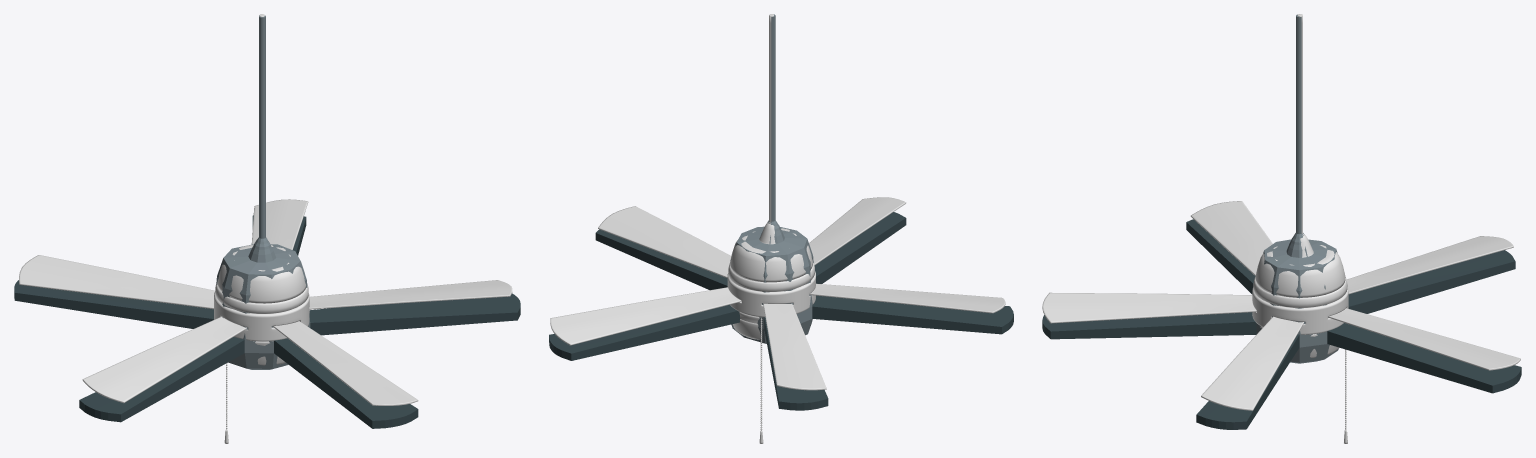
File: ventilo.glb
3 views of the same model, side by side, from view 1: azimuth 30°, elevation 25°; view 2: azimuth 150°, elevation 25°; view 3: azimuth 270°, elevation 25° (orthographic). The views are drawn at different scales.
Parts seen in each view (by area): view 1: fan, Plane; view 2: fan, Plane; view 3: fan, Plane.
Part boxes in pixels (x1,y1,x2,y2): fan: (19,14,512,443); Plane: (14,15,520,428); fan: (550,14,1005,443); Plane: (549,14,1013,410); fan: (1042,14,1520,443); Plane: (1042,14,1521,429).
Bounding box in the file's own units: 2.06 × 2 × 2.
